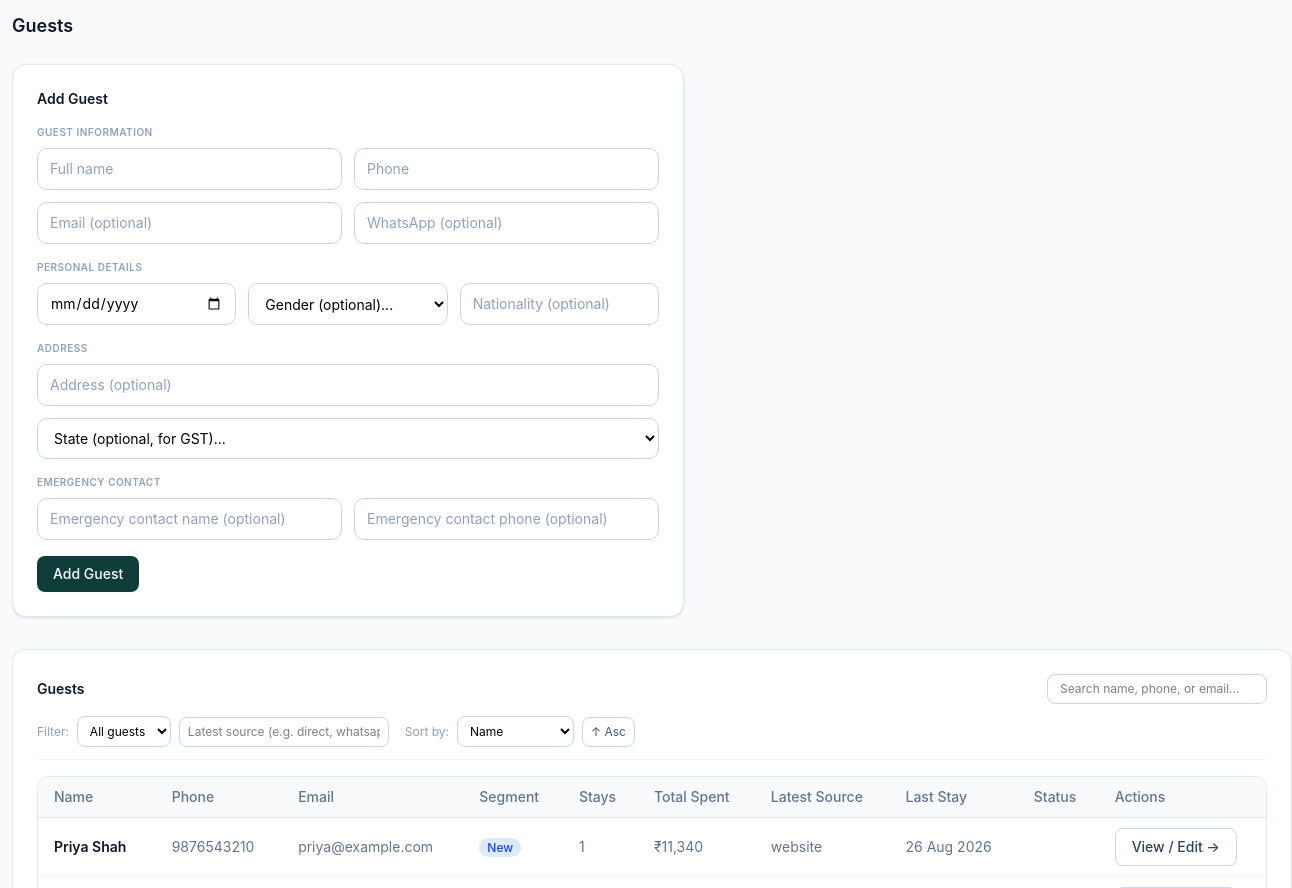
Test: GuestsPage — UI polish › shows the filtered-to-zero empty state when a search/filter matches nothing
The width and height of the screenshot is (1292, 888).
expect the text "Priya Shah" is shown: met, box [38,818,156,876]
Type "Nobody Matches This" into the field with placeholder "Search name, phone, or email..." at (1157, 689), box [1047,674,1267,704]
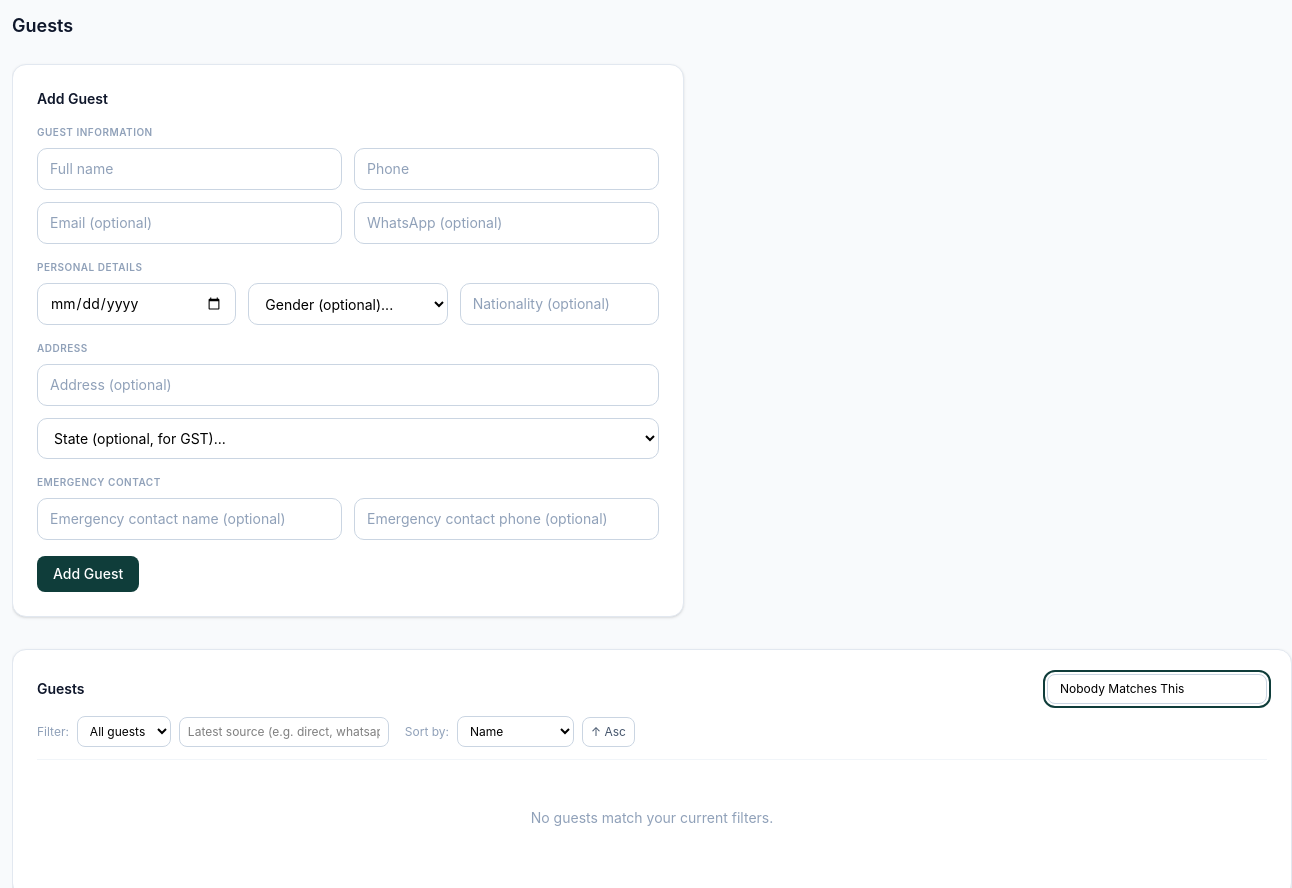
expect the text "No guests match your current filters." is shown: met, box [531,809,773,826]
